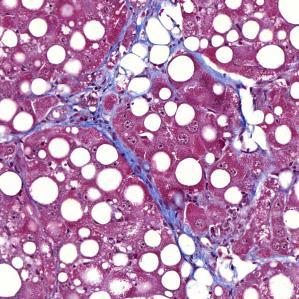fibrosis: (65, 75, 132, 144)
